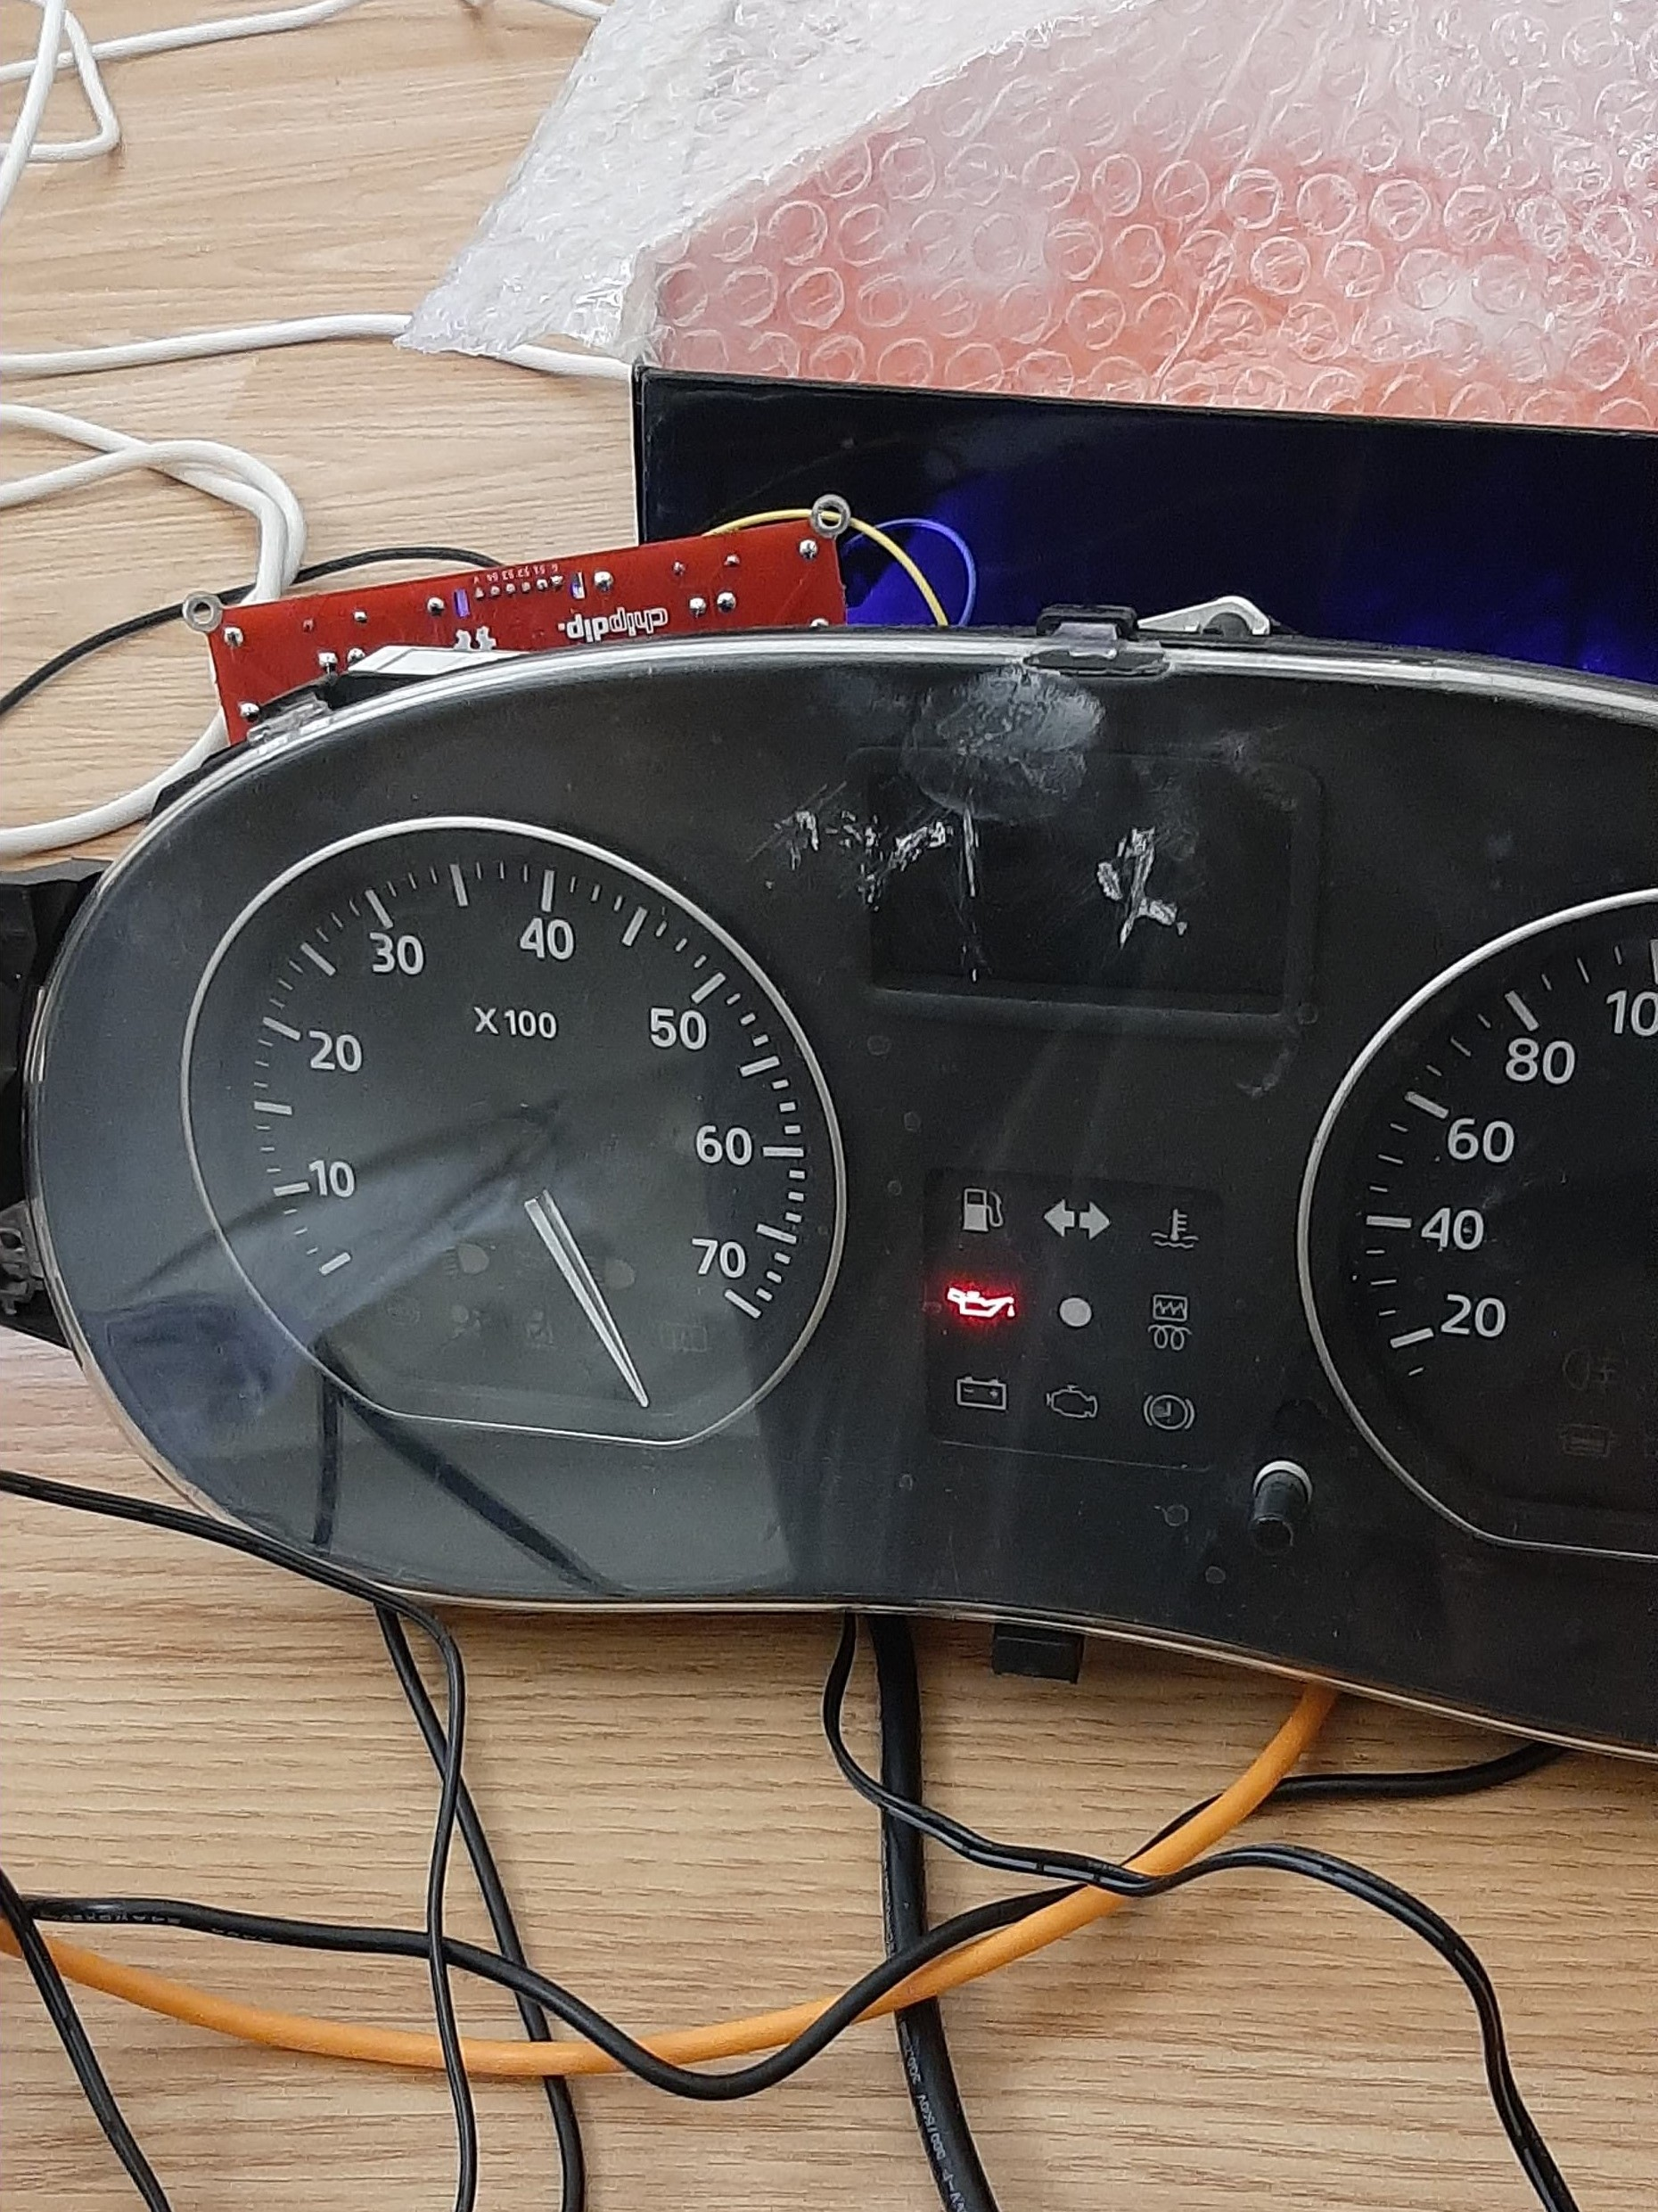oil21: (942, 1282, 1019, 1324)
